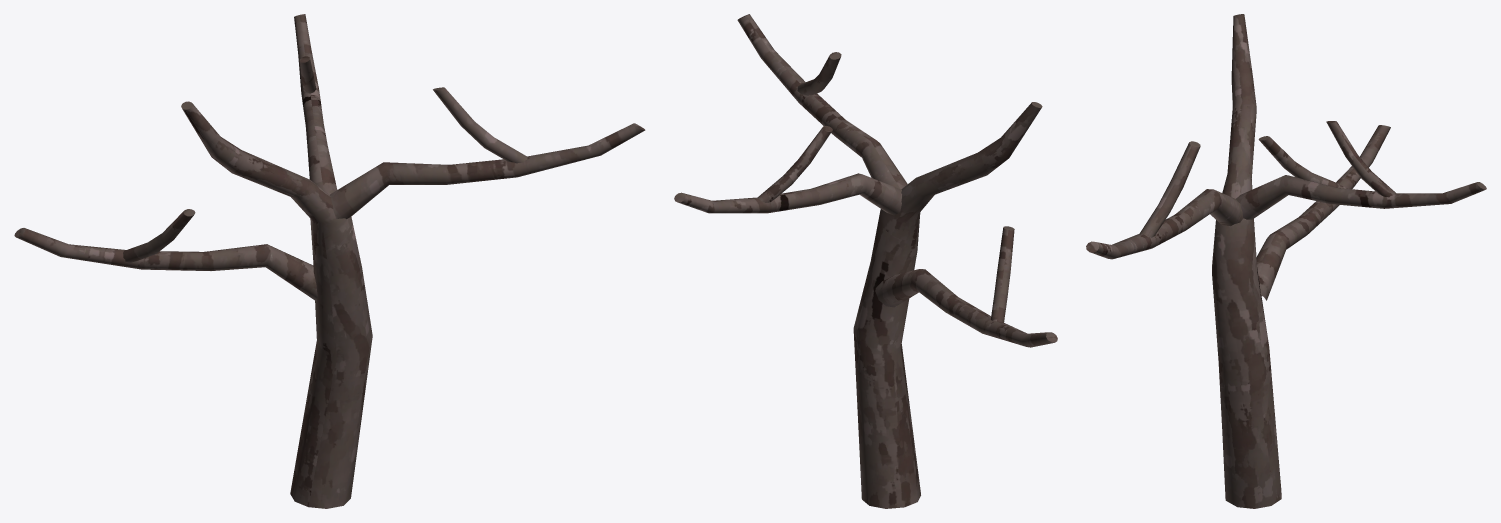
Rendered from deadtree_9.glb.
3 views of the same model, side by side, from view 1: azimuth 30°, elevation 25°; view 2: azimuth 150°, elevation 25°; view 3: azimuth 270°, elevation 25° (orthographic). The views are drawn at different scales.
Visible parts, largest first — view 1: DeadTree_9; view 2: DeadTree_9; view 3: DeadTree_9.
Boxes of the visible parts, x1,y1,x2,y2 form: DeadTree_9: [14, 14, 645, 508]; DeadTree_9: [674, 14, 1057, 508]; DeadTree_9: [1086, 14, 1486, 508].
Size of the model in its own units: 5.09 by 4.42 by 3.85.
1 material, 1 textured.
